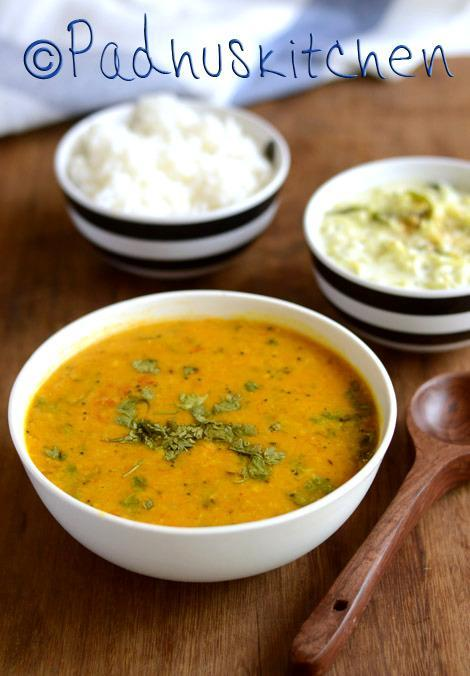dal: (20, 292, 387, 555)
rice: (84, 91, 253, 229)
